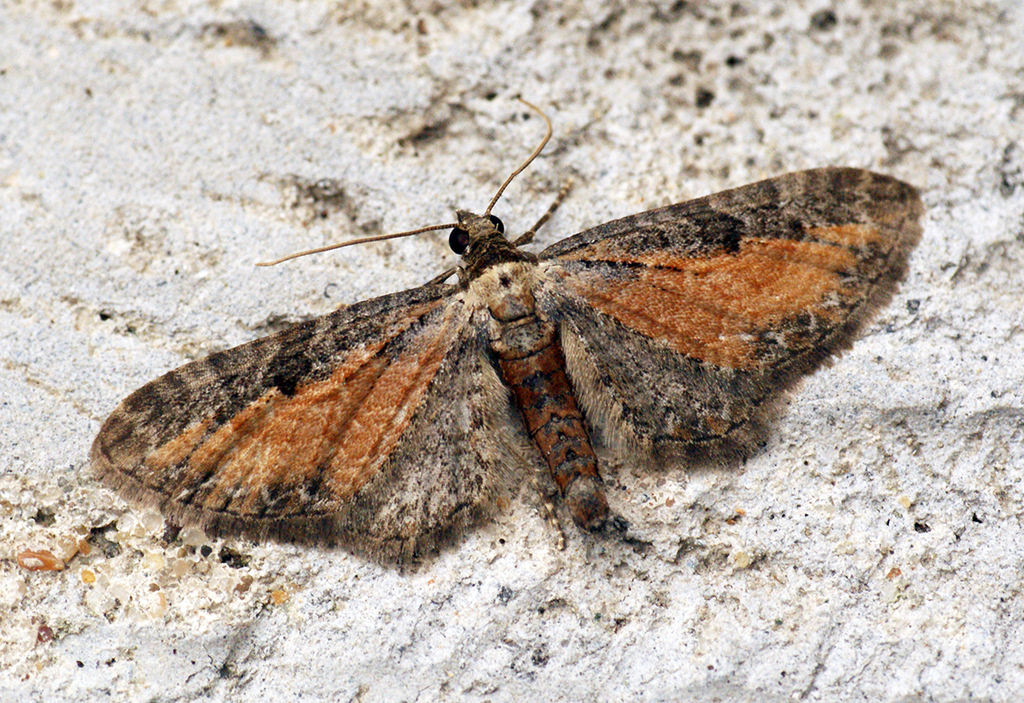Butterfly: (31, 147, 935, 590)
